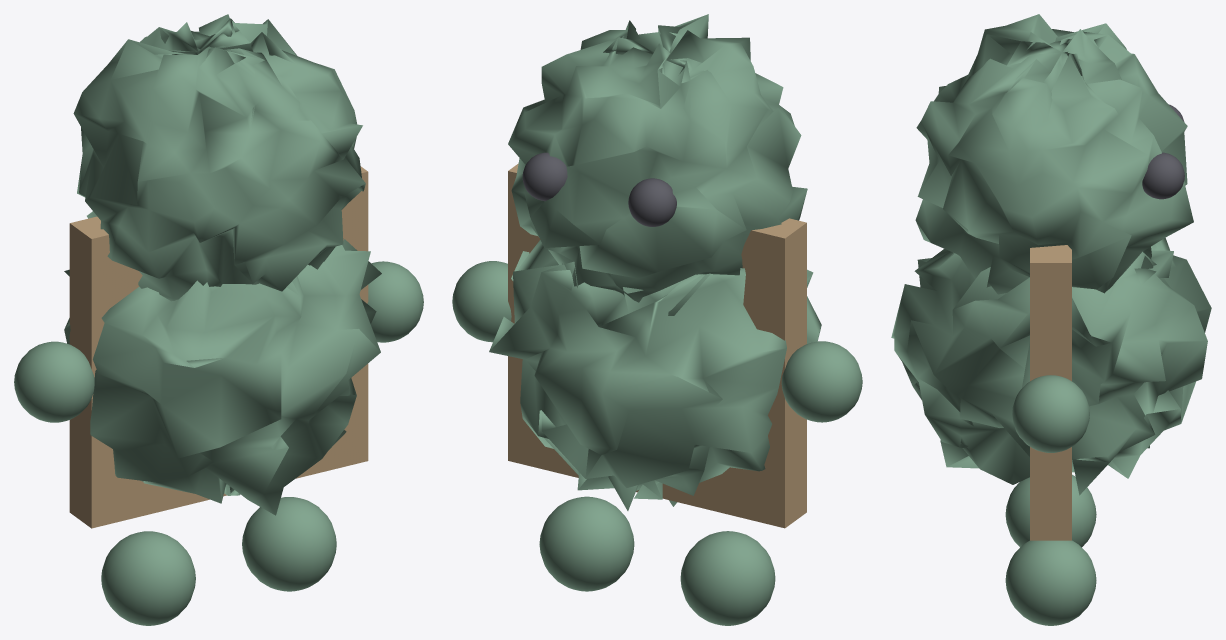
File: clay_chalkboard_face.glb
The picture shows the model from 3 angles, left to right: view 1: azimuth 30°, elevation 25°; view 2: azimuth 150°, elevation 25°; view 3: azimuth 270°, elevation 25°; orthographic projection. The views are drawn at different scales.
Parts seen in each view (by area): view 1: frame; view 2: frame; view 3: frame.
Boxes of the visible parts, x1,y1,x2,y2 form: frame: [14, 14, 423, 625]; frame: [452, 14, 862, 625]; frame: [891, 14, 1211, 625].
Bounding box in the file's own units: 1.43 × 1.97 × 1.04.
